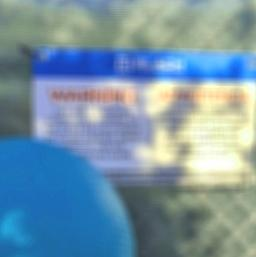algae: (0, 136, 134, 257)
